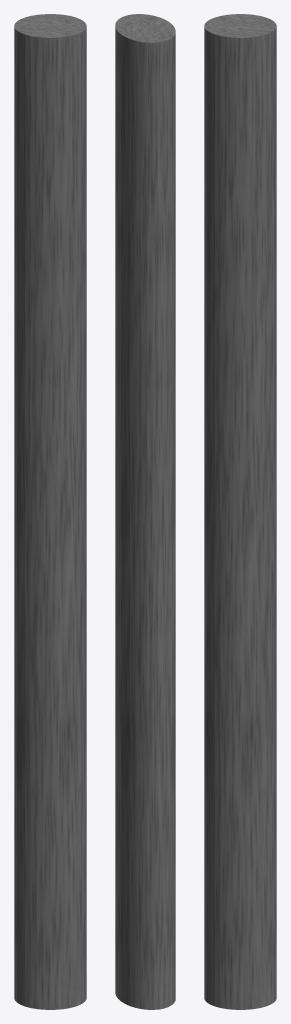
The model's file is Gear_Tree_Pipe.glb.
The picture shows the model from 3 angles, left to right: view 1: azimuth 90°, elevation 25°; view 2: azimuth 210°, elevation 25°; view 3: azimuth 270°, elevation 25°; orthographic projection.
Parts seen in each view (by area): view 1: Cylinder.008; view 2: Cylinder.008; view 3: Cylinder.008.
Boxes of the visible parts, <box> form: Cylinder.008: <box>14,14,86,1009</box>; Cylinder.008: <box>115,14,175,1009</box>; Cylinder.008: <box>204,14,276,1009</box>.
Bounding box in the file's own units: 0.5357 × 10.14 × 0.6857.
1 material, 1 textured.
